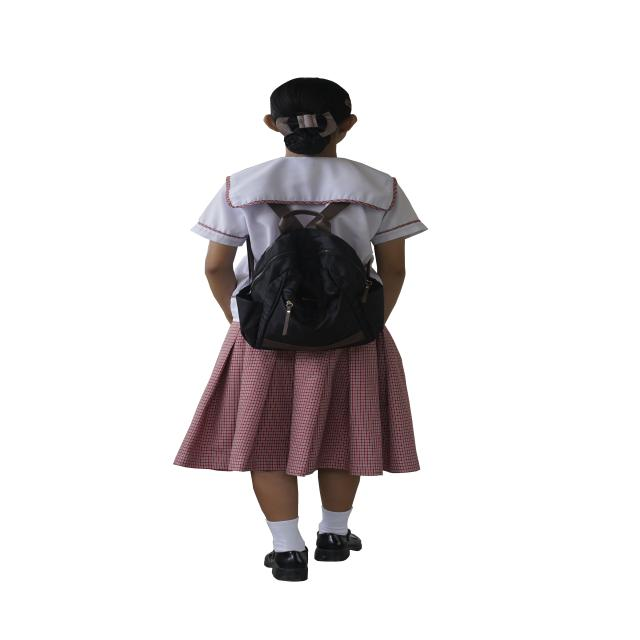shoes: (264, 547, 308, 582), (314, 530, 362, 562)
skirt: (175, 323, 420, 476)
